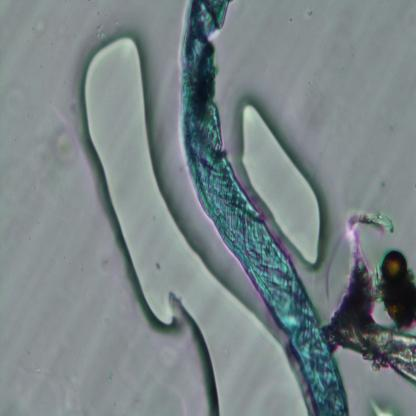Air bubble: (80, 36, 310, 414), (238, 98, 326, 272)
Background material: (345, 203, 395, 282), (378, 247, 416, 331), (51, 133, 77, 164)
Cellulose filter fibre: (327, 282, 416, 381)
Cotton: (178, 2, 350, 416)
